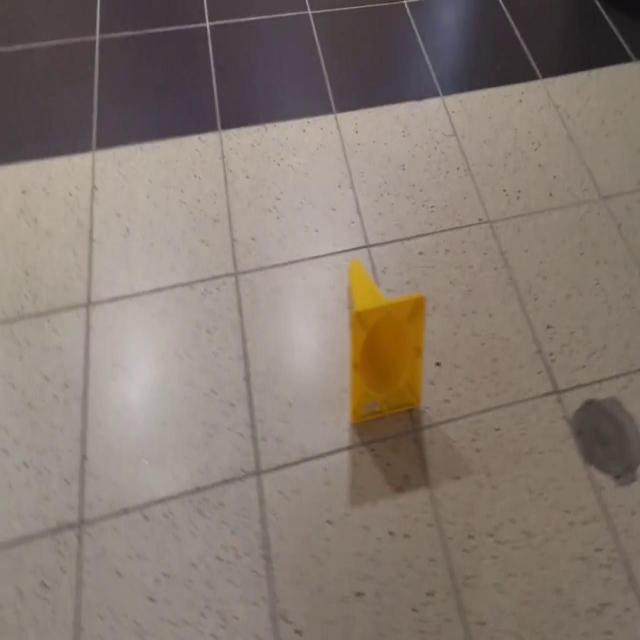frc_cone: (348, 257, 426, 427)
